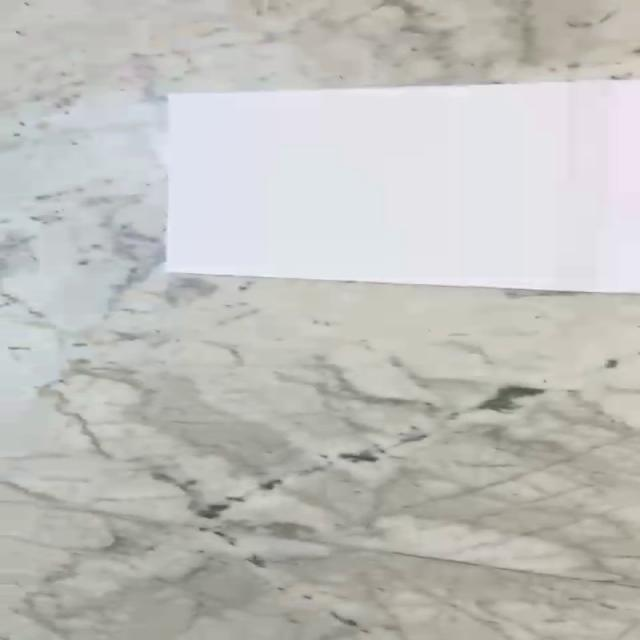road: (164, 78, 640, 294)
